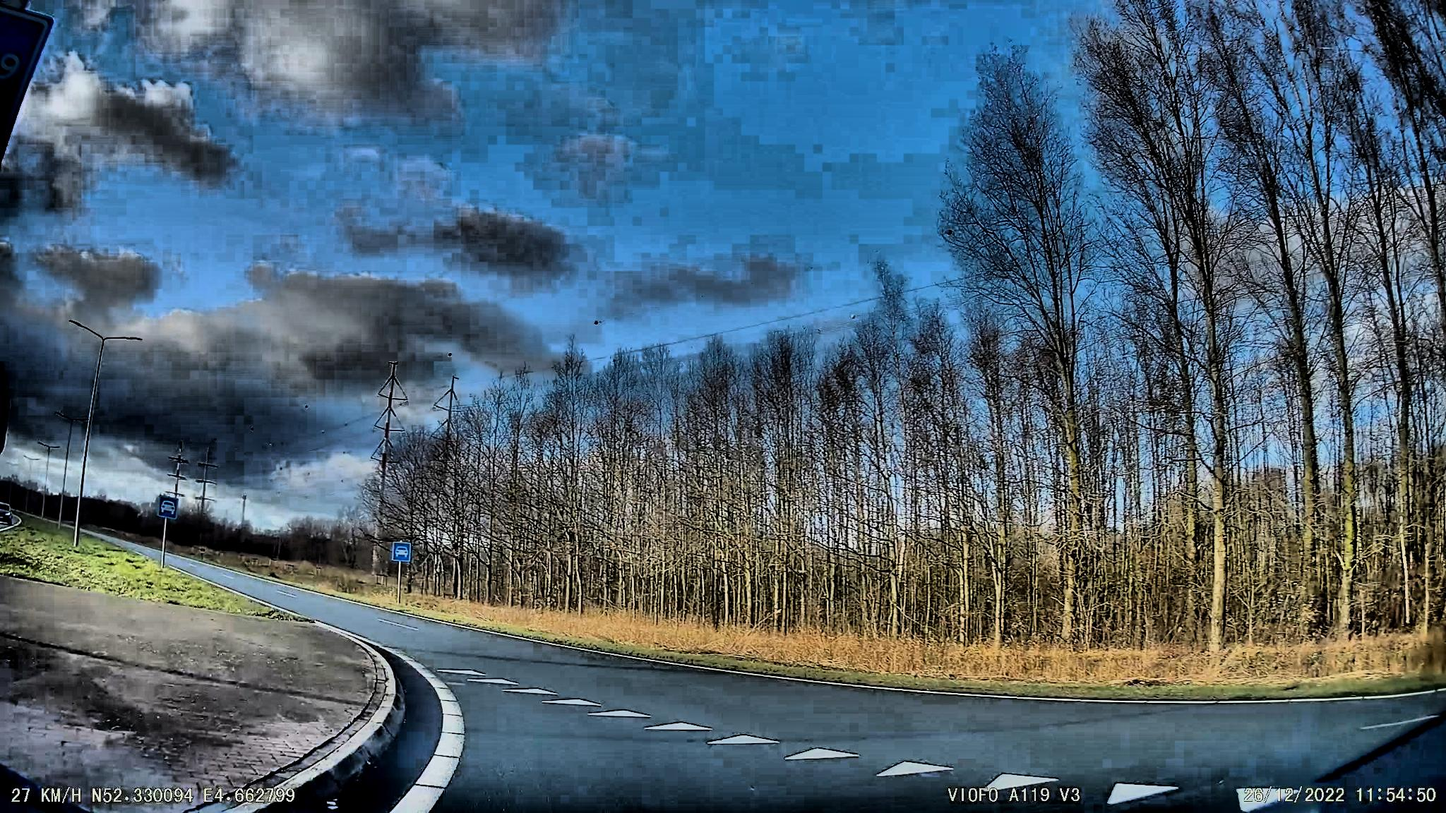Roads: (226, 583, 1446, 813)
